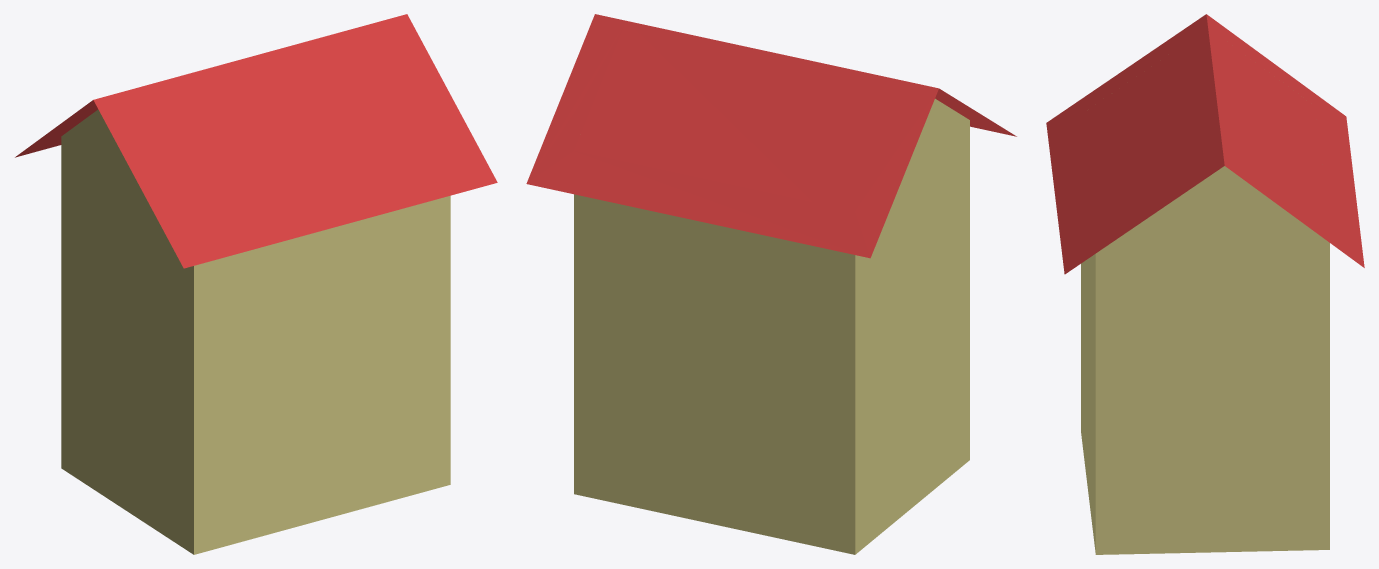
3 views of the same model, side by side, from view 1: azimuth 30°, elevation 25°; view 2: azimuth 150°, elevation 25°; view 3: azimuth 270°, elevation 25° (orthographic). The views are drawn at different scales.
Bounding box in the file's own units: 5.7 × 4.84 × 6.71.
